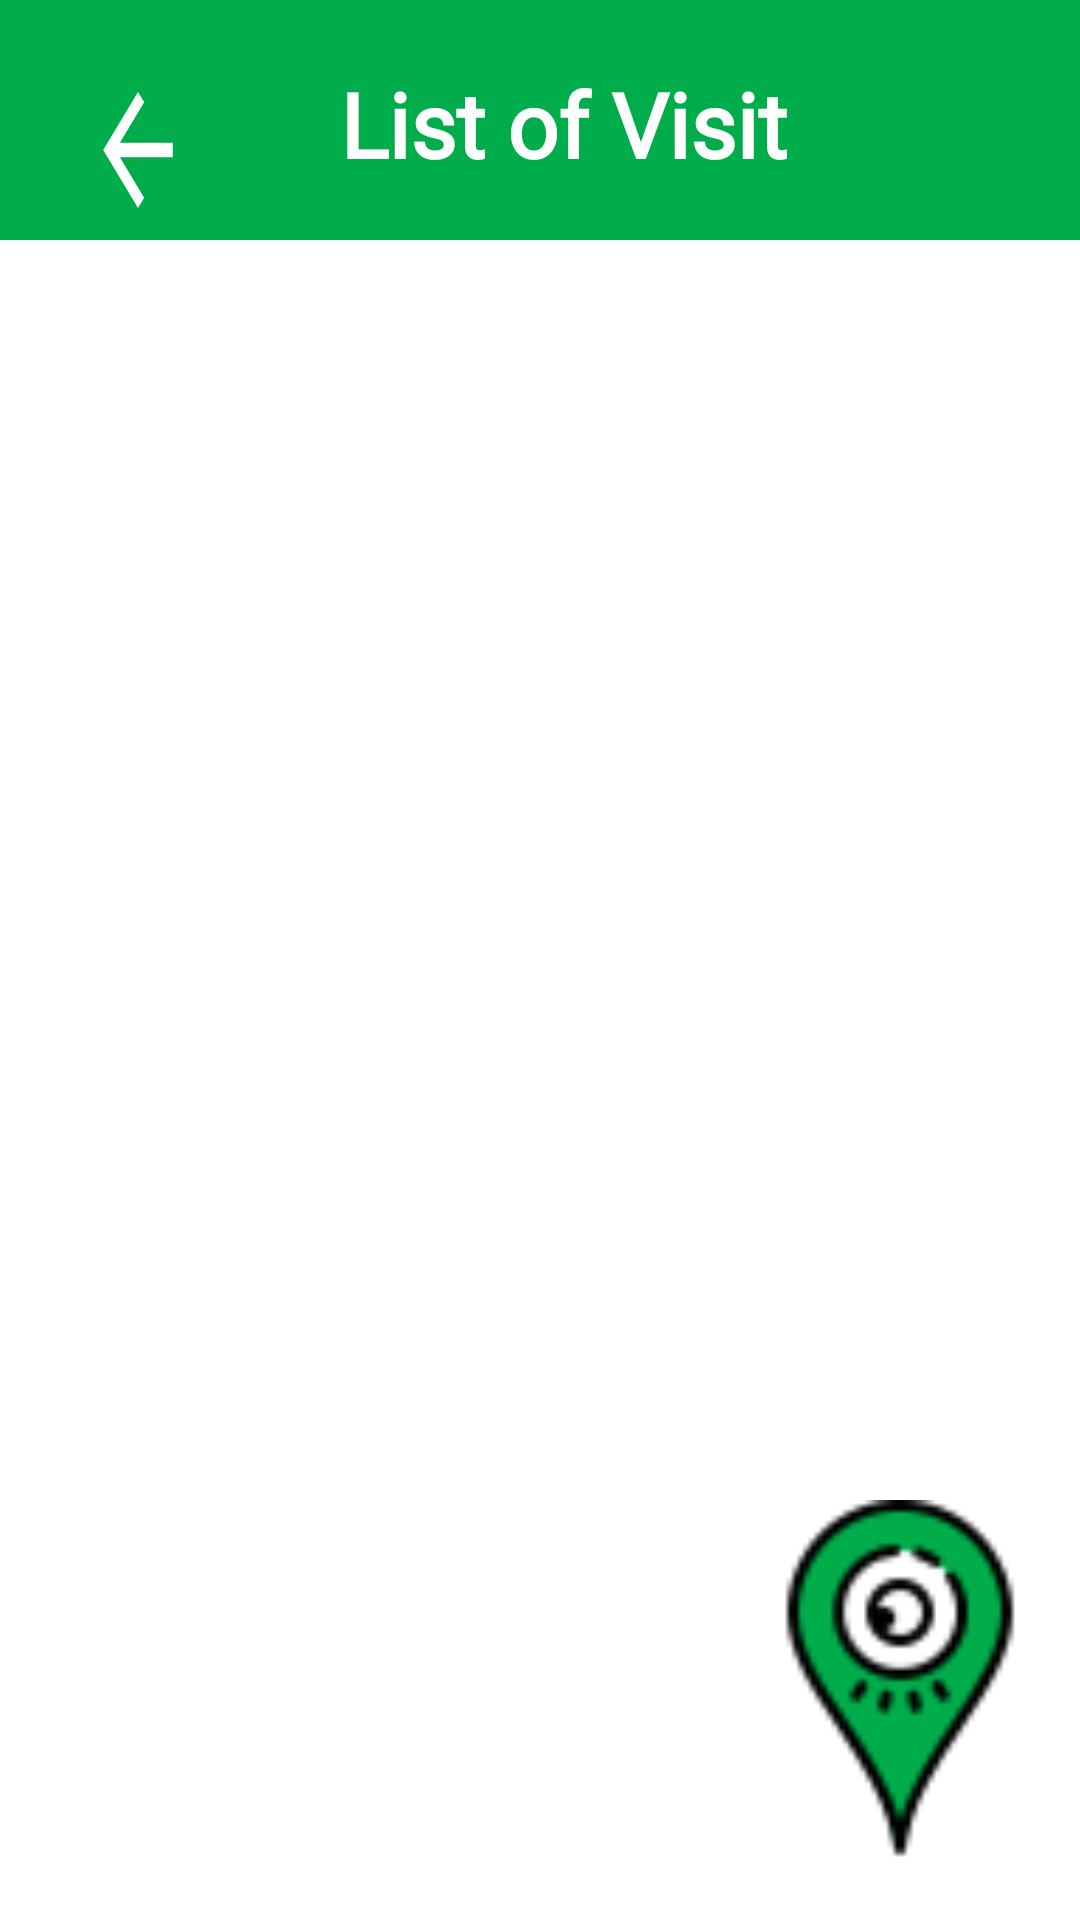

Where to tap for icons on this 1080x1920 app screen, as [x,y]:
visit: [900,1678]
